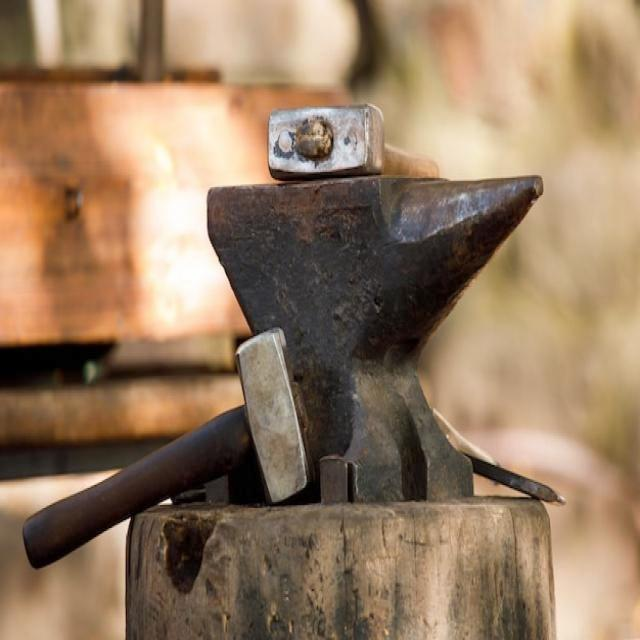hammer: (21, 322, 316, 566), (260, 94, 460, 182)
